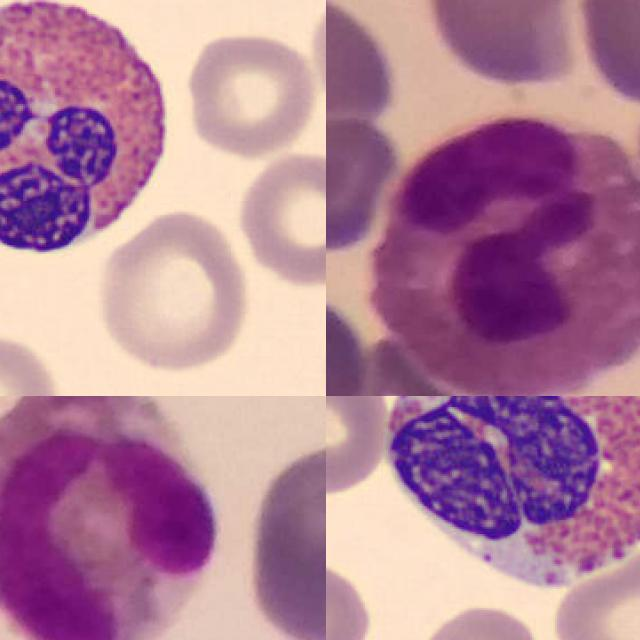Eosinophil: (362, 116, 640, 396), (374, 396, 640, 606), (0, 396, 217, 640), (0, 0, 185, 269)
RBC: (89, 205, 256, 378), (183, 29, 320, 161), (232, 146, 326, 290), (548, 541, 640, 640), (326, 396, 391, 495), (412, 601, 551, 640), (0, 329, 63, 396), (326, 555, 375, 640), (307, 0, 326, 125)
